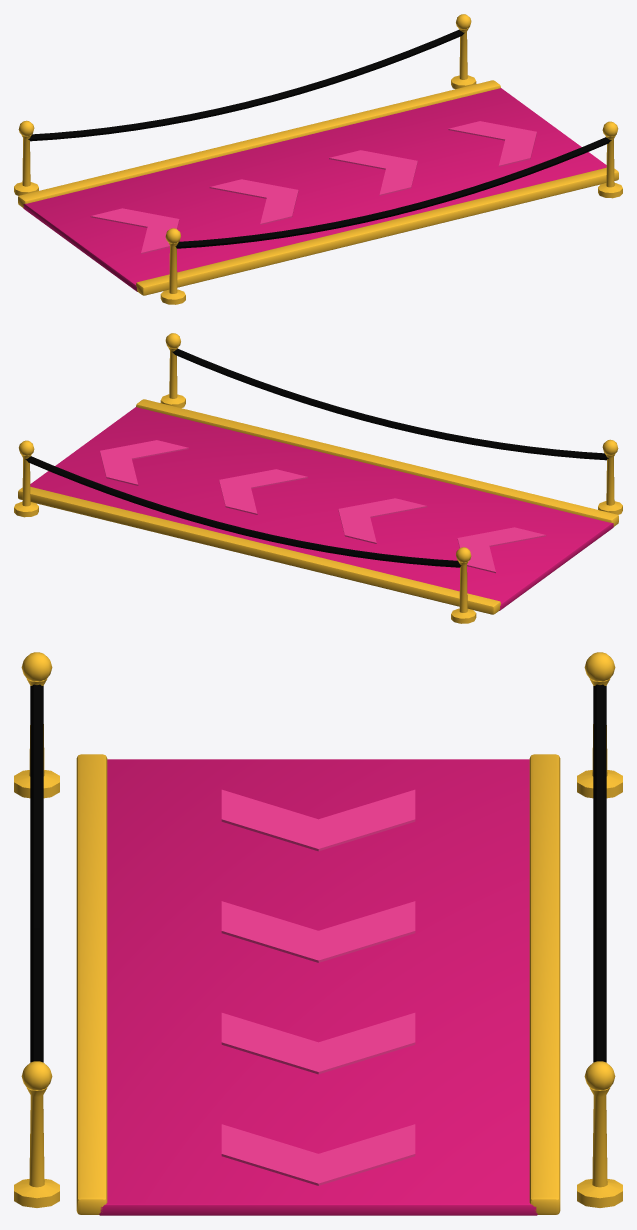
File: lobby_pasarela_seg.obj
The picture shows the model from 3 angles, top to bottom: view 1: azimuth 30°, elevation 25°; view 2: azimuth 150°, elevation 25°; view 3: azimuth 270°, elevation 25°; orthographic projection. The views are drawn at different scales.
Visible parts, largest first — view 1: lobby_pasarela_seg; view 2: lobby_pasarela_seg; view 3: lobby_pasarela_seg.
Part boxes in pixels (x1=…): lobby_pasarela_seg: x1=14, y1=14, x2=622, y2=304; lobby_pasarela_seg: x1=14, y1=333, x2=622, y2=623; lobby_pasarela_seg: x1=14, y1=652, x2=622, y2=1215.
Size of the model in its own units: 24 by 3.4 by 13.85.
Materials: 1 (1 with a texture image).
